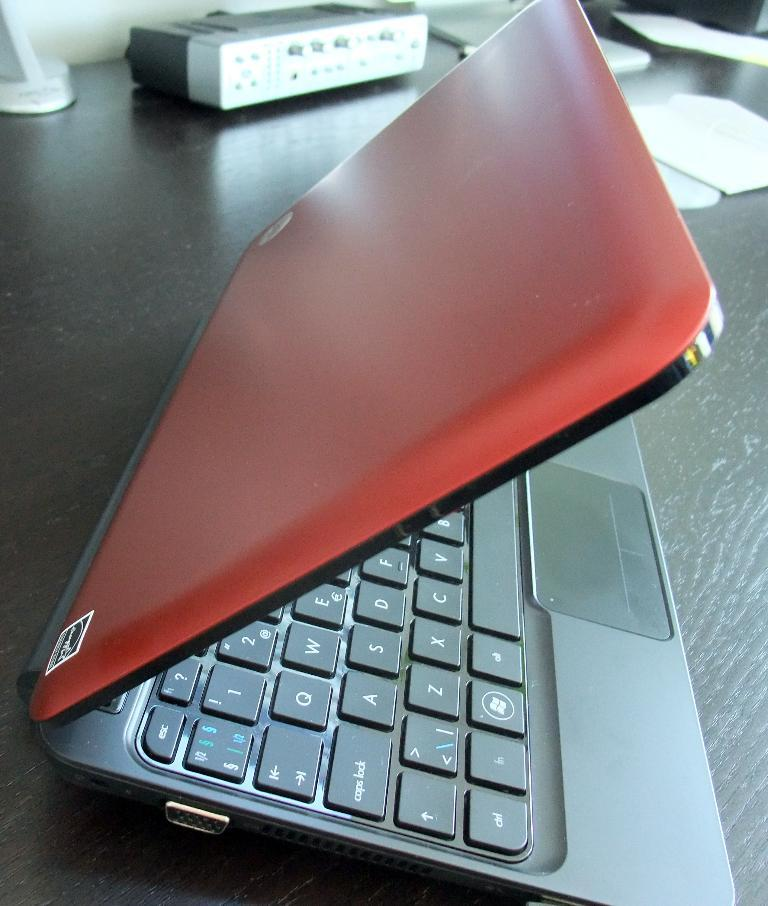Computer-keyboard: (139, 477, 534, 858)
